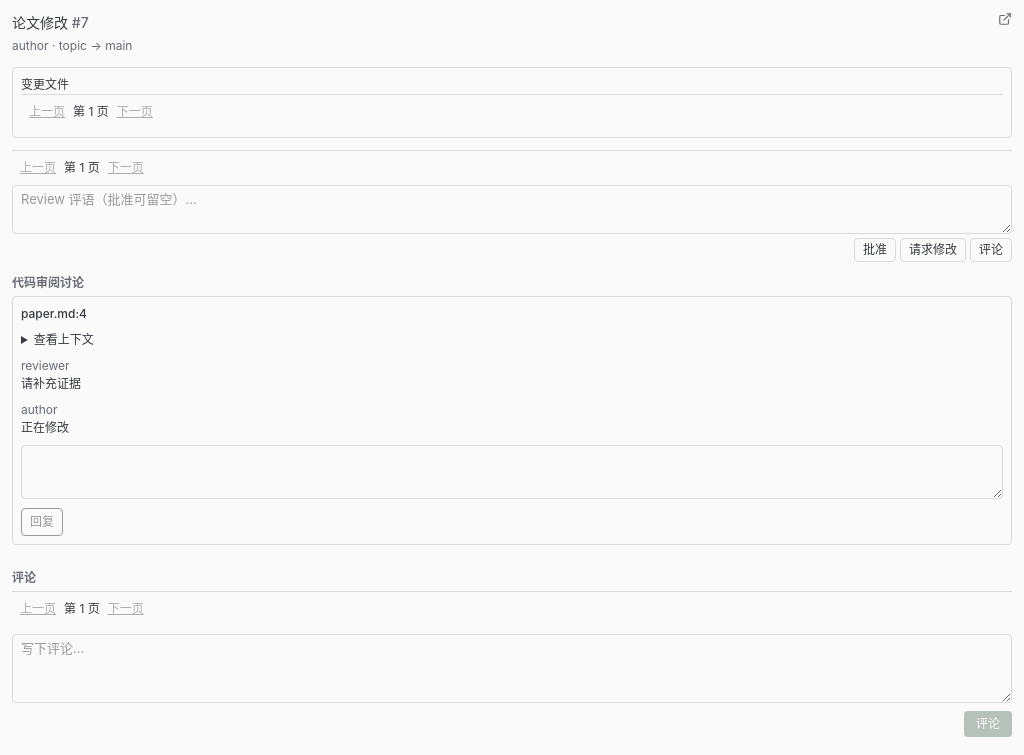
Test: reply within the selected PR review discussion › shows a review thread and posts a reply to its root comment rather than the PR issue conversation
The width and height of the screenshot is (1024, 755).
Expected: the text "请补充证据" is shown, [21,376,81,391]
Expected: the text "正在修改" is shown, [21,420,69,435]
Step 1. Type "已补充" into the text box named "回复此讨论" → (512, 472), box [21,445,1003,499]
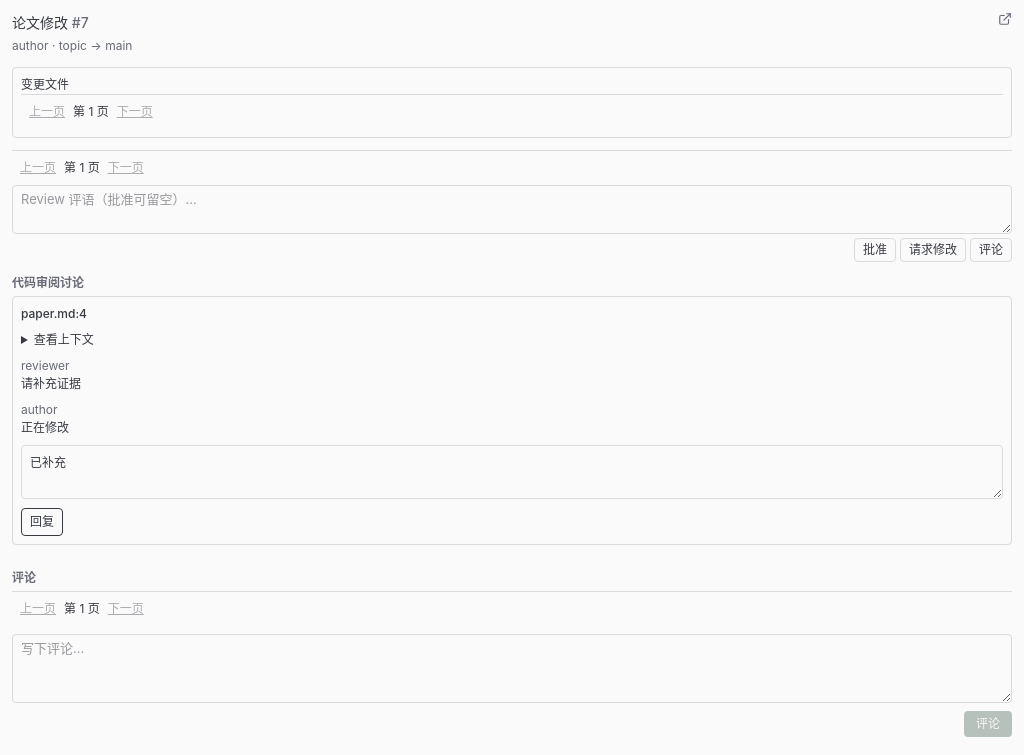
Step 2. Click the button "回复" → click(42, 522), box [21,508,63,536]
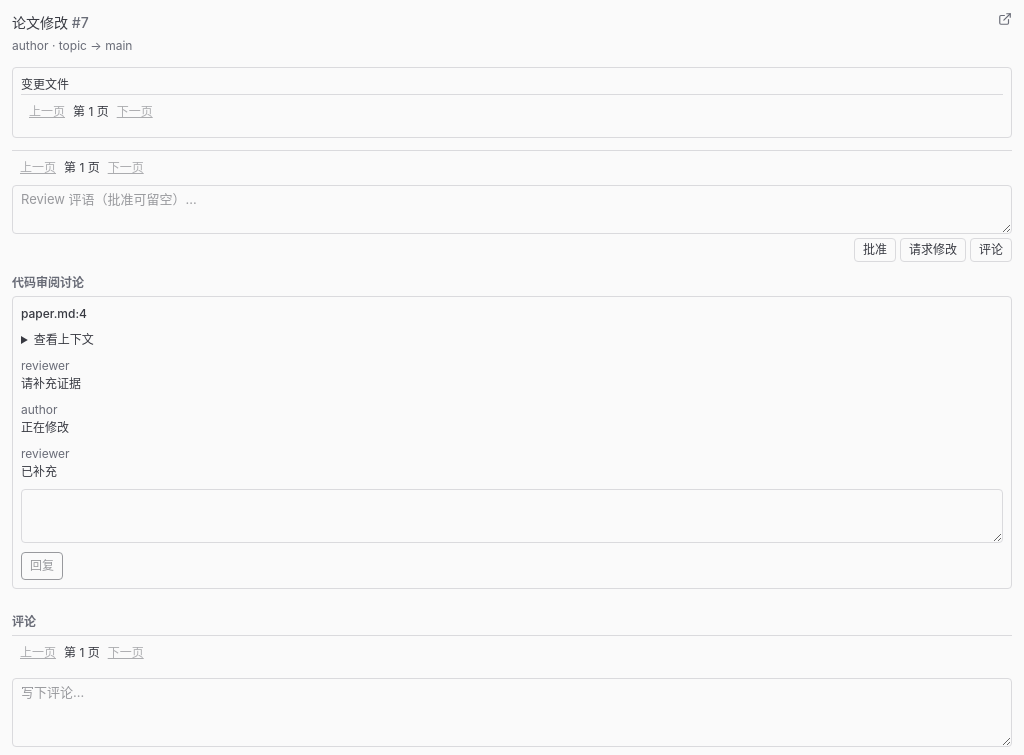
Now the text "已补充" is shown, box [21,464,57,479]
